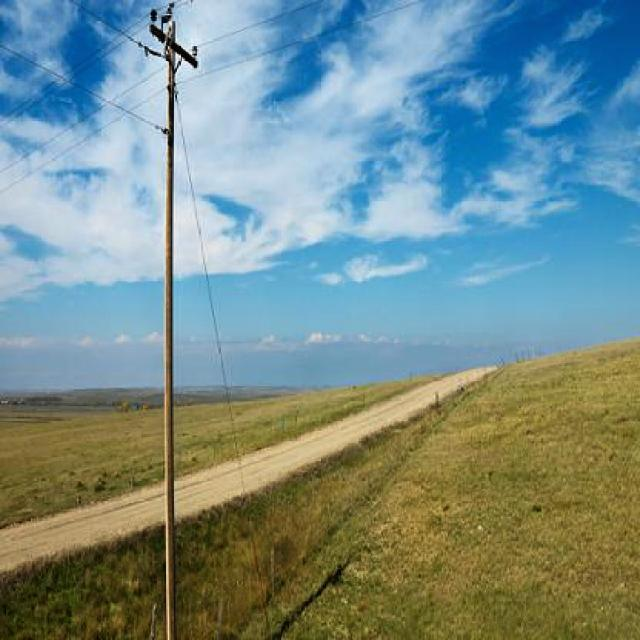crossarm: (148, 9, 198, 68)
pole: (165, 3, 177, 640)
wire: (0, 0, 428, 196), (0, 0, 329, 175), (173, 86, 275, 640), (0, 0, 196, 130), (0, 43, 165, 136), (68, 0, 163, 59)
